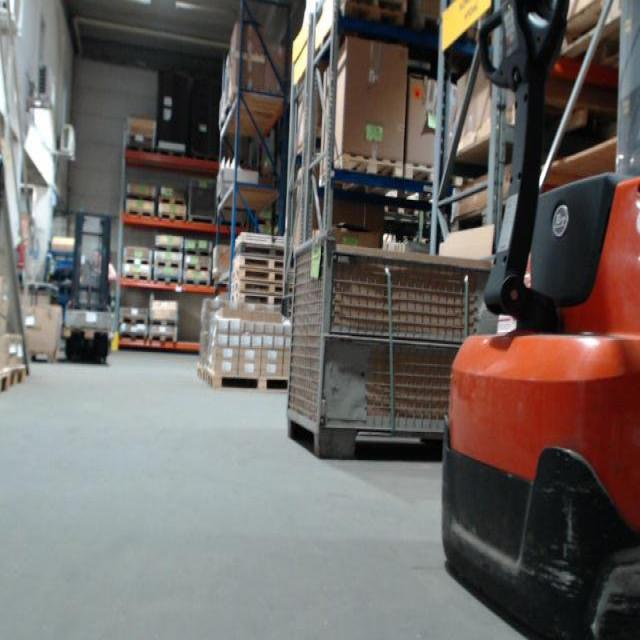pallet: (318, 157, 402, 201), (208, 368, 291, 394), (343, 0, 406, 27), (403, 161, 437, 200), (238, 283, 287, 297), (239, 259, 286, 273), (356, 0, 410, 12), (238, 297, 286, 309), (238, 248, 286, 259), (238, 273, 287, 283), (8, 362, 26, 388), (119, 330, 148, 343), (153, 243, 184, 255), (148, 330, 178, 342), (119, 315, 150, 326), (127, 192, 156, 203), (192, 152, 220, 163), (158, 196, 188, 206), (126, 143, 155, 153), (158, 212, 187, 222), (154, 260, 183, 270), (123, 271, 152, 281), (153, 275, 182, 285), (183, 262, 211, 272), (150, 318, 181, 327), (156, 149, 186, 158), (183, 277, 210, 287), (126, 208, 155, 217), (123, 256, 152, 265), (186, 247, 212, 257)
pallet_truck: (437, 5, 639, 635), (64, 205, 120, 369)
stillage: (286, 231, 517, 462)
